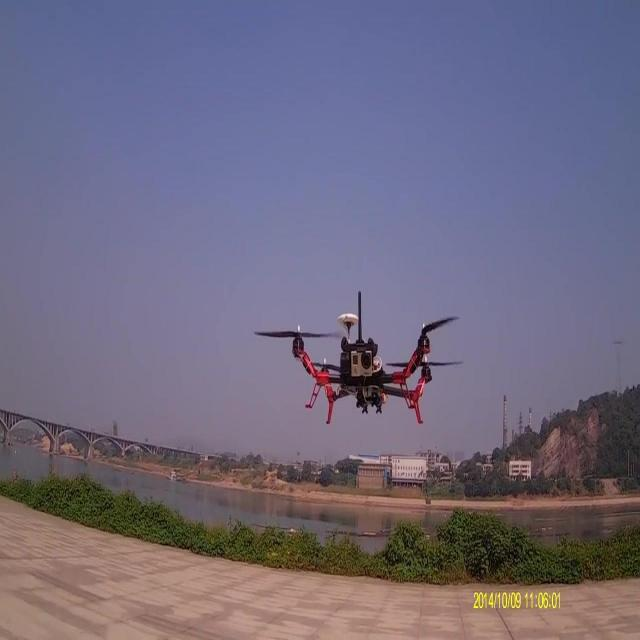UAV: (277, 289, 443, 426)
